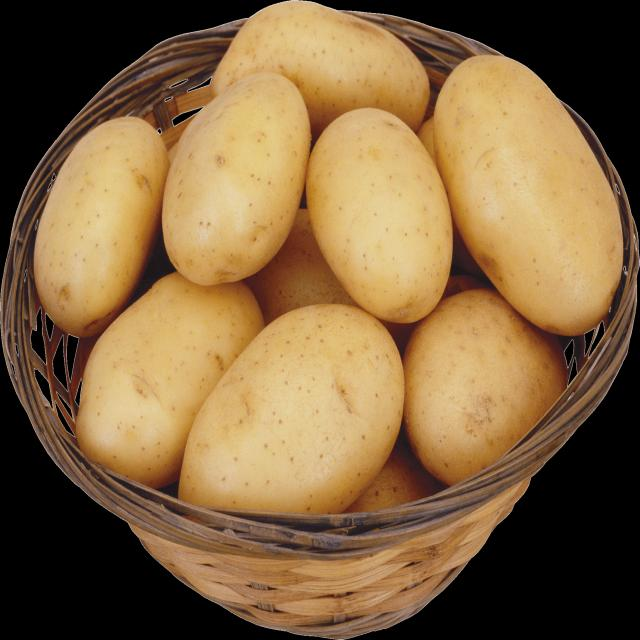potato: (438, 58, 622, 337), (175, 302, 405, 517), (75, 284, 263, 480), (165, 62, 316, 284), (310, 106, 453, 327), (31, 116, 169, 324)
